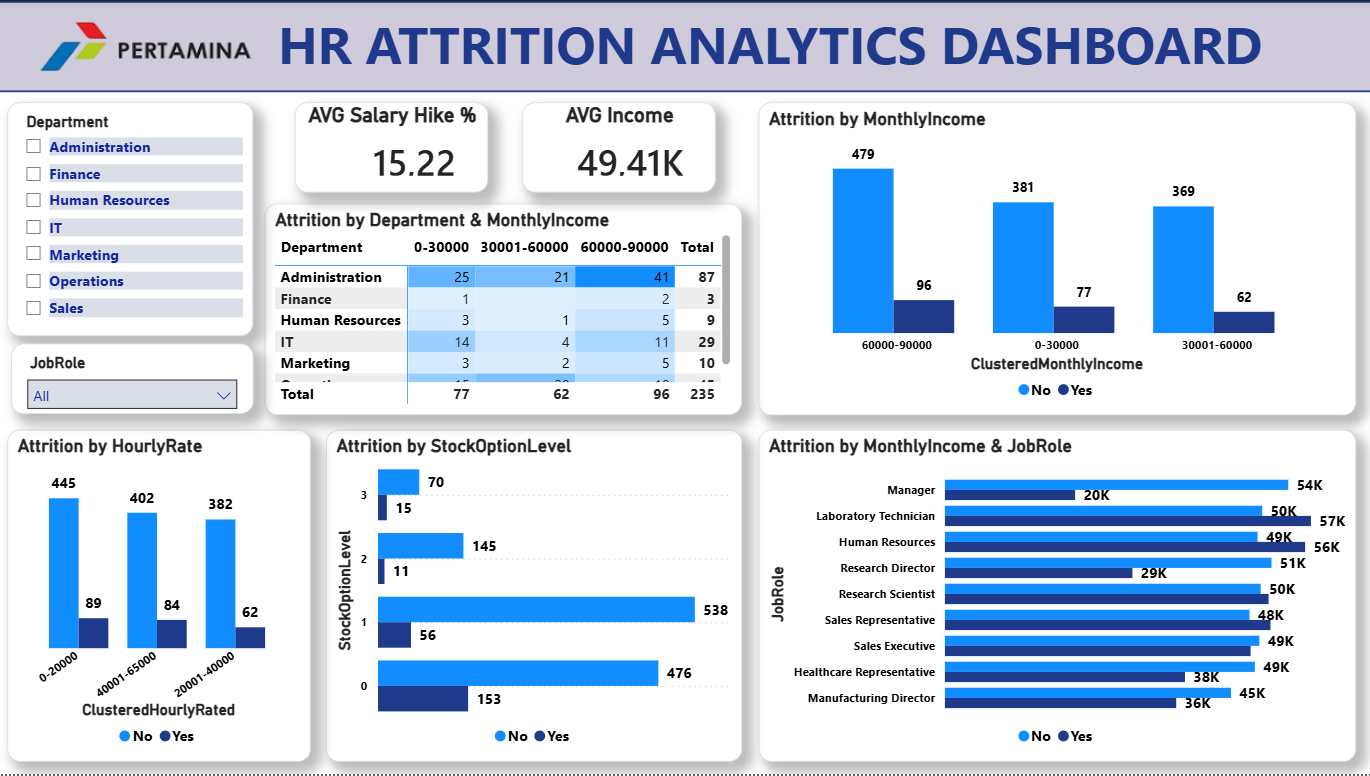

This screenshot's page, from the dashboard's own definition file:
{"tool":"powerbi","page":{"name":"Compensation","canvas":[1280,720],"ordinal":2},"visuals":[{"type":"textbox","box":[0,0,1280.3,85.1],"z":0},{"type":"image","box":[30,0,217.5,85],"z":1000},{"type":"clusteredColumnChart","title":"Attrition by MonthlyIncome","fields":{"Category":["HR_Analytics_4.ClusteredMonthlyIncome"],"Y":["CountNonNull(HR_Analytics_4.EmpID)"],"Series":["HR_Analytics_4.Attrition"]},"box":[708.8,93.8,556.2,291.2],"z":2000},{"type":"clusteredBarChart","title":"Attrition by MonthlyIncome & JobRole","fields":{"Category":["HR_Analytics_4.JobRole"],"Series":["HR_Analytics_4.Attrition"],"Y":["Avg(HR_Analytics_4.MonthlyIncome)"]},"box":[708.8,398.8,556.2,308.8],"z":3000},{"type":"clusteredBarChart","title":"Attrition by StockOptionLevel","fields":{"Category":["HR_Analytics_4.StockOptionLevel"],"Y":["CountNonNull(HR_Analytics_4.EmpID)"],"Series":["HR_Analytics_4.Attrition"]},"box":[307.5,398.8,387.5,308.8],"z":4000},{"type":"clusteredColumnChart","title":"Attrition by HourlyRate","fields":{"Category":["HR_Analytics_4.ClusteredHourlyRated"],"Series":["HR_Analytics_4.Attrition"],"Y":["CountNonNull(HR_Analytics_4.EmpID)"]},"box":[10,398.8,282.5,308.8],"z":5000},{"type":"pivotTable","title":"Attrition by Department & MonthlyIncome","fields":{"Rows":["HR_Analytics_4.Department"],"Columns":["HR_Analytics_4.ClusteredMonthlyIncome"],"Values":["Sum(HR_Analytics_4.AttritionCount)"]},"box":[250,188.4,444.2,196.5],"z":6000},{"type":"slicer","fields":{"Values":["HR_Analytics_4.Department"]},"box":[10.6,94.1,228.8,217.6],"z":7000},{"type":"slicer","fields":{"Values":["HR_Analytics_4.JobRole"]},"box":[14.1,318.8,225.3,65.9],"z":8000},{"type":"cardVisual","title":"AVG Income","fields":{"Data":["Avg(HR_Analytics_4.MonthlyIncome)"]},"box":[489.5,94.2,180,83.7],"z":9000},{"type":"cardVisual","title":"AVG Salary Hike %","fields":{"Data":["Avg(HR_Analytics_4.SalaryHike %)"]},"box":[277.9,94.2,180.2,83.7],"z":10000}]}

Visuals, with their boxes in screenshot pixels (x1, y1, x2, y2), scaled from the page's 1280x720 canvas onto the 1370x776 screenshot:
textbox: crop(0, 0, 1369, 92)
image: crop(32, 0, 265, 92)
"Attrition by MonthlyIncome" clusteredColumnChart: crop(759, 101, 1354, 415)
"Attrition by MonthlyIncome & JobRole" clusteredBarChart: crop(759, 430, 1354, 763)
"Attrition by StockOptionLevel" clusteredBarChart: crop(329, 430, 744, 763)
"Attrition by HourlyRate" clusteredColumnChart: crop(11, 430, 313, 763)
"Attrition by Department & MonthlyIncome" pivotTable: crop(268, 203, 743, 415)
slicer - HR_Analytics_4.Department: crop(11, 101, 256, 336)
slicer - HR_Analytics_4.JobRole: crop(15, 344, 256, 415)
"AVG Income" cardVisual: crop(524, 102, 717, 192)
"AVG Salary Hike %" cardVisual: crop(297, 102, 490, 192)
